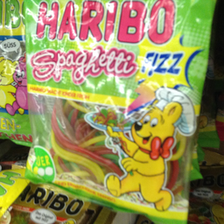candy: (21, 2, 214, 224)
